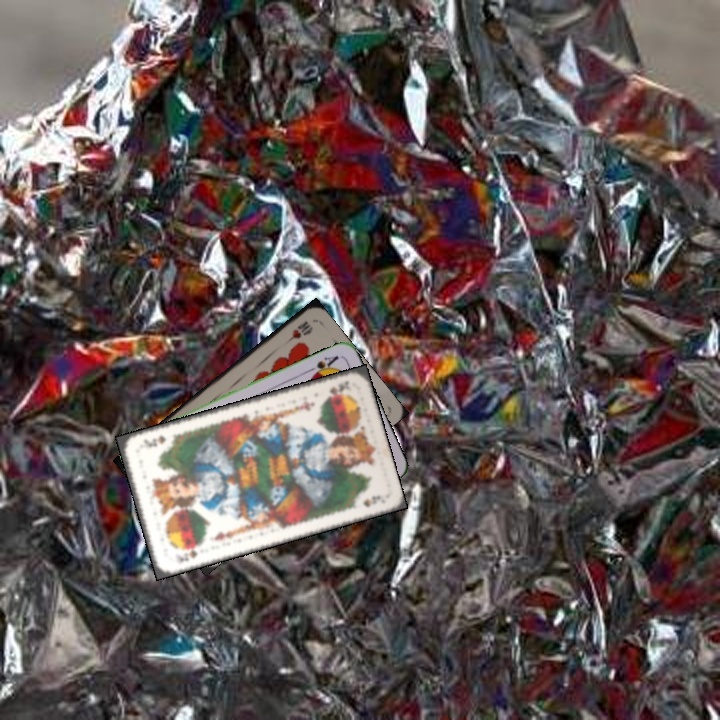H10: (280, 317, 314, 347)
SA: (304, 352, 341, 380)
SK: (173, 541, 205, 565), (322, 377, 353, 400)
